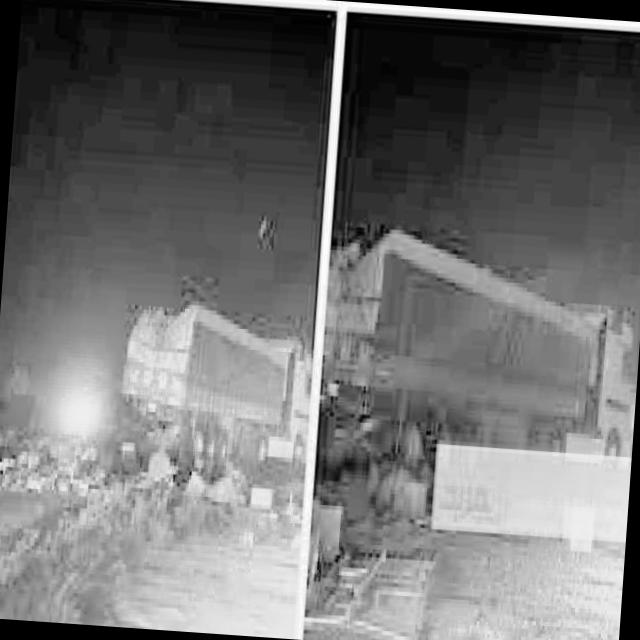Truck: (310, 221, 640, 538), (113, 296, 314, 487)
